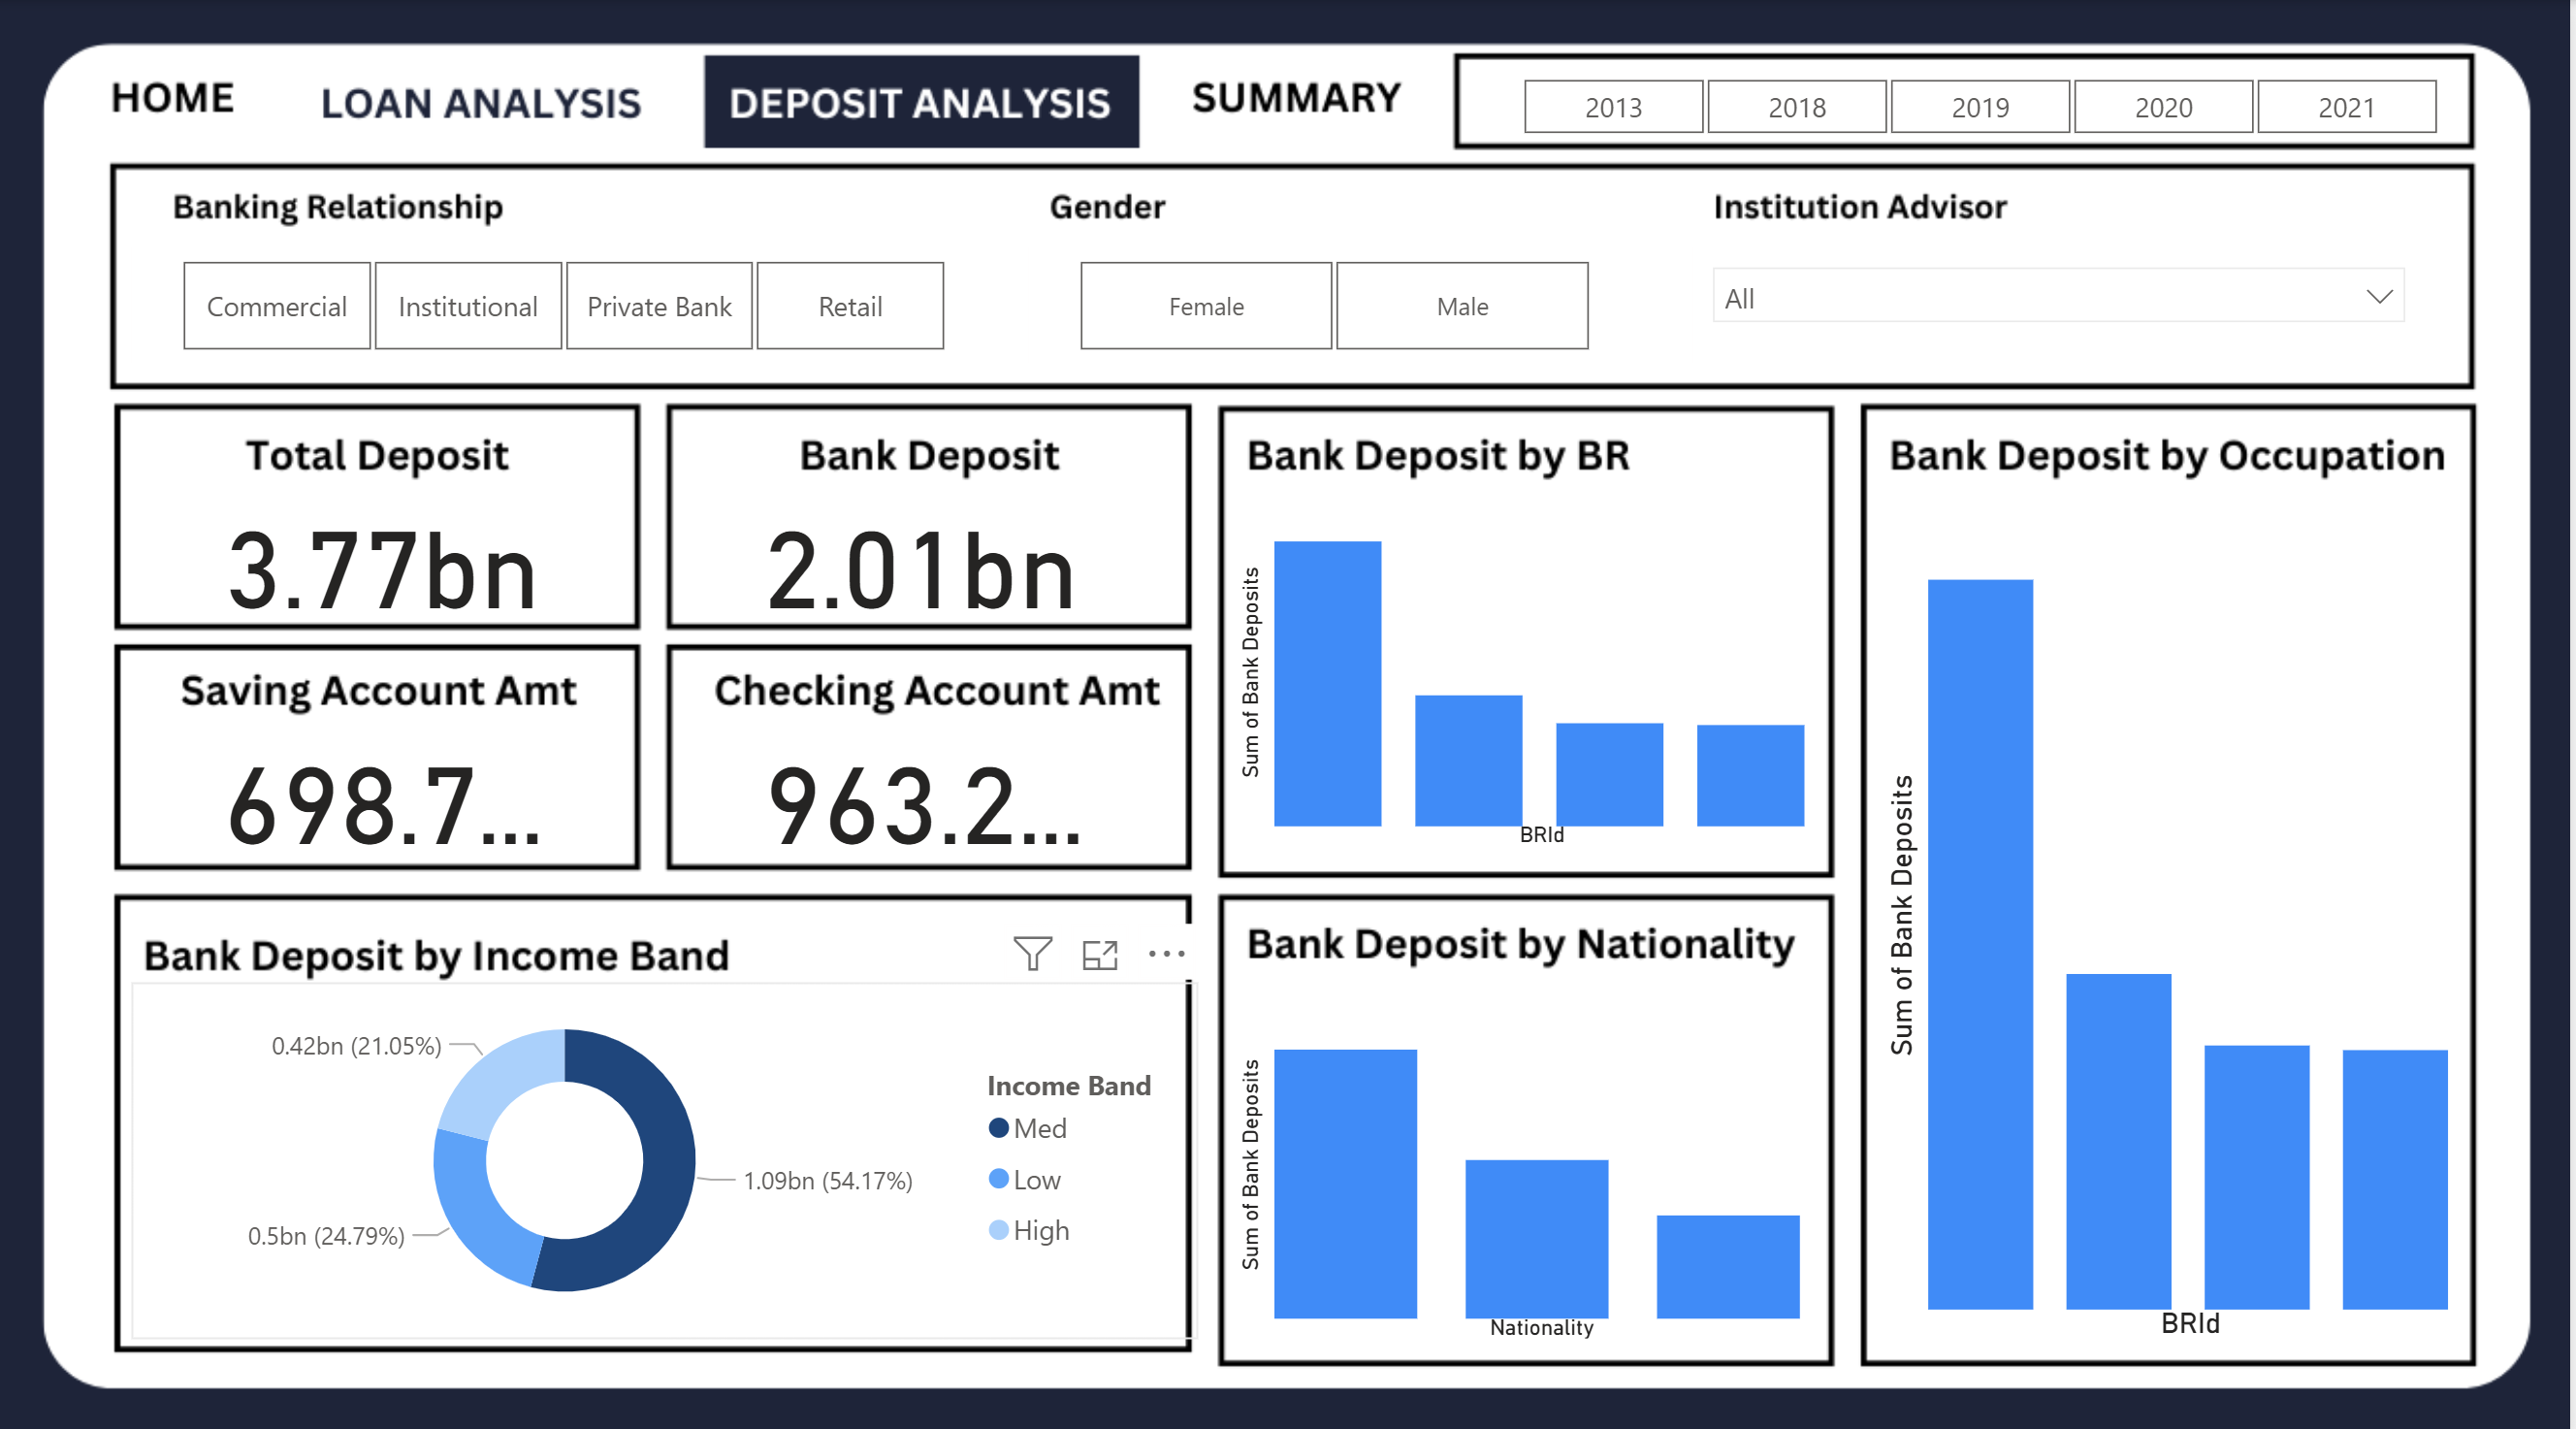

The dashboard page shown, as its layout file describes it:
{"tool":"powerbi","page":{"name":"Deposit Analysis","canvas":[1280,720],"ordinal":3},"visuals":[{"type":"slicer","fields":{"Values":["banking_case customer.Year of Joining"]},"box":[733.3,32.2,504.1,34.9],"z":0},{"type":"actionButton","box":[36.4,31.7,99.7,39.6],"z":1000},{"type":"actionButton","box":[348.2,31.7,221.6,39.6],"z":2000},{"type":"actionButton","box":[587.1,31.7,123.4,39.6],"z":3000},{"type":"card","fields":{"Values":["banking_case customer.Total Deposit"]},"box":[100.9,243.7,179.5,65.5],"z":4000},{"type":"card","fields":{"Values":["Sum(banking_case customer.Bank Deposits)"]},"box":[369.5,243.7,179.5,65.5],"z":5000},{"type":"card","fields":{"Values":["Sum(banking_case customer.Saving Accounts)"]},"box":[100.9,360.4,179.5,65.5],"z":6000},{"type":"card","fields":{"Values":["Sum(banking_case customer.Checking Accounts)"]},"box":[370.8,360.4,179.5,65.5],"z":7000},{"type":"donutChart","fields":{"Category":["banking_case customer.Income Band"],"Y":["Sum(banking_case customer.Bank Deposits)"]},"box":[66.8,488.8,530.7,176.9],"z":8000},{"type":"clusteredColumnChart","fields":{"Category":["banking_case customer.BRId"],"Y":["Sum(banking_case customer.Bank Deposits)"]},"box":[613.3,243.7,293.5,182.1],"z":9000},{"type":"clusteredColumnChart","fields":{"Category":["banking_case customer.Nationality"],"Y":["Sum(banking_case customer.Bank Deposits)"]},"box":[613.3,488.8,293.5,182.1],"z":10000},{"type":"slicer","fields":{"Values":["banking_case customer.BRId"]},"box":[66.8,123.2,428.5,57.7],"z":11000},{"type":"slicer","fields":{"Values":["banking_case customer.GenderId"]},"box":[512.4,123.2,302.7,57.7],"z":12000},{"type":"slicer","fields":{"Values":["banking_case customer.IAId"]},"box":[843.9,123.2,364.3,57.7],"z":13000},{"type":"clusteredColumnChart","fields":{"Category":["banking_case customer.BRId"],"Y":["Sum(banking_case customer.Bank Deposits)"]},"box":[933.7,245.3,292.8,425.7],"z":14000},{"type":"actionButton","box":[136.3,27.5,196.6,40.6],"z":15000}]}

Visuals, with their boxes in screenshot pixels (x1, y1, x2, y2), scaled from the page's 1280x720 canvas onto the 2576x1429 screenshot:
slicer - banking_case customer.Year of Joining: <region>1476, 64, 2491, 133</region>
actionButton: <region>74, 63, 274, 142</region>
actionButton: <region>701, 63, 1146, 142</region>
actionButton: <region>1181, 63, 1430, 142</region>
card - banking_case customer.Total Deposit: <region>203, 484, 564, 614</region>
card - Sum(banking_case customer.Bank Deposits): <region>744, 484, 1105, 614</region>
card - Sum(banking_case customer.Saving Accounts): <region>203, 715, 564, 845</region>
card - Sum(banking_case customer.Checking Accounts): <region>746, 715, 1108, 845</region>
donutChart - banking_case customer.Income Band x Sum(banking_case customer.Bank Deposits): <region>135, 970, 1203, 1321</region>
clusteredColumnChart - banking_case customer.BRId x Sum(banking_case customer.Bank Deposits): <region>1235, 484, 1825, 845</region>
clusteredColumnChart - banking_case customer.Nationality x Sum(banking_case customer.Bank Deposits): <region>1235, 970, 1825, 1332</region>
slicer - banking_case customer.BRId: <region>135, 244, 997, 359</region>
slicer - banking_case customer.GenderId: <region>1031, 244, 1640, 359</region>
slicer - banking_case customer.IAId: <region>1698, 244, 2431, 359</region>
clusteredColumnChart - banking_case customer.BRId x Sum(banking_case customer.Bank Deposits): <region>1879, 487, 2468, 1332</region>
actionButton: <region>274, 54, 670, 135</region>
